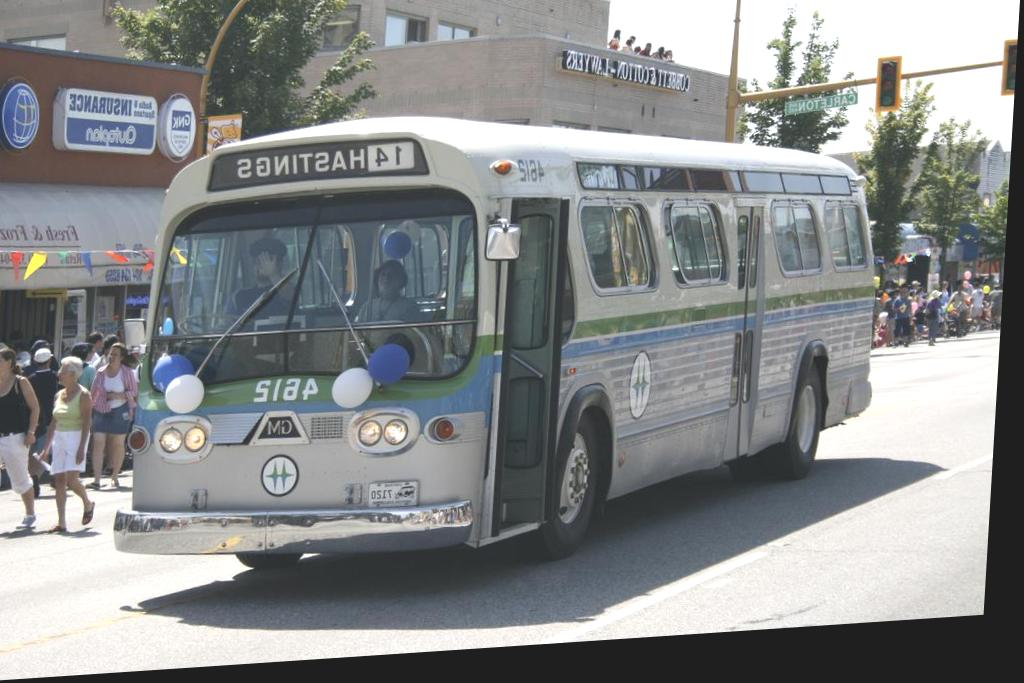License_Plate: (367, 477, 419, 508)
